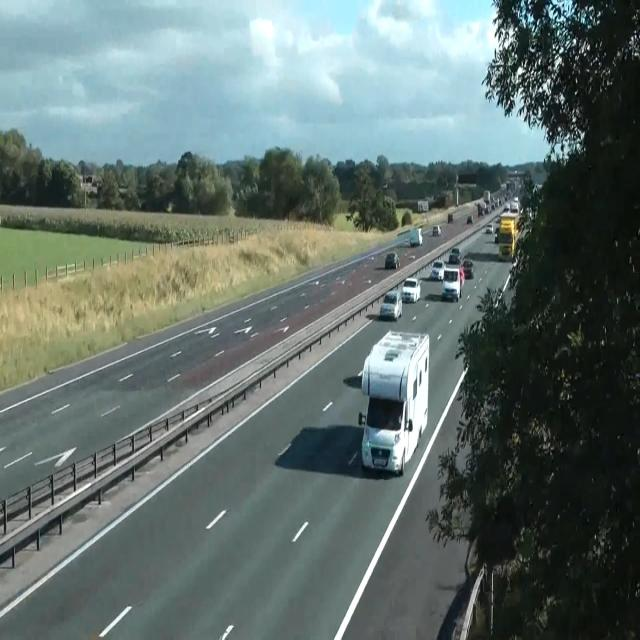bus: (385, 252, 399, 270), (449, 246, 461, 263), (432, 224, 442, 236), (485, 222, 493, 233), (494, 225, 499, 242), (467, 213, 473, 223), (382, 182, 388, 190)
car: (358, 328, 430, 476)
jeep: (441, 265, 463, 301), (380, 288, 402, 320), (401, 276, 421, 302), (430, 259, 444, 280), (461, 258, 474, 278)
minibus: (498, 213, 518, 260), (409, 227, 423, 247), (418, 200, 428, 212), (447, 212, 453, 222)
